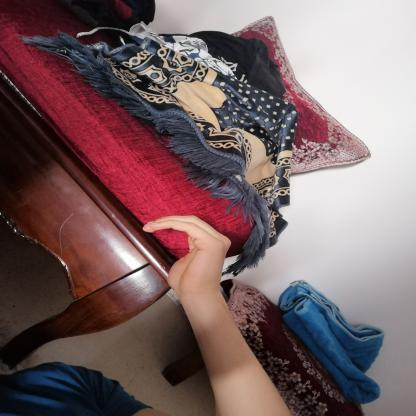HAA: (124, 200, 244, 305)
